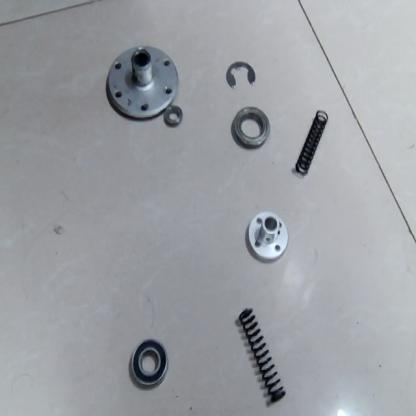FOD: (103, 43, 178, 123), (233, 305, 288, 409), (291, 107, 331, 178), (126, 334, 172, 394), (246, 206, 292, 264), (232, 106, 270, 152), (223, 57, 260, 88), (163, 103, 186, 130)
